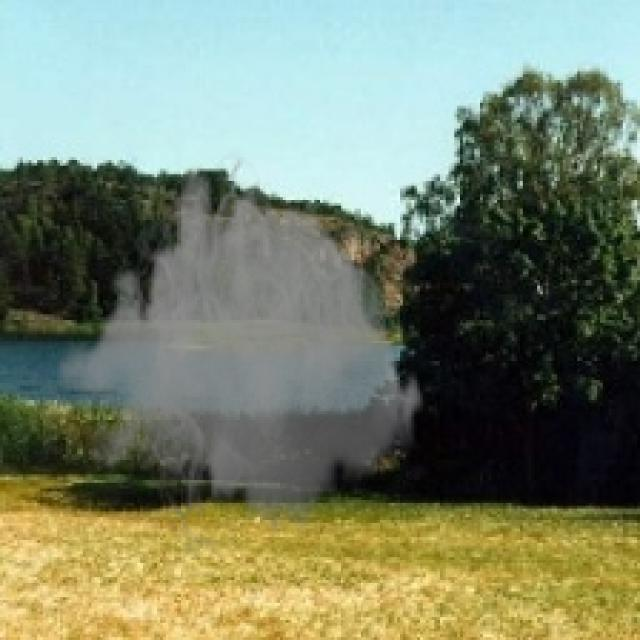Smoke: (54, 151, 426, 566)
